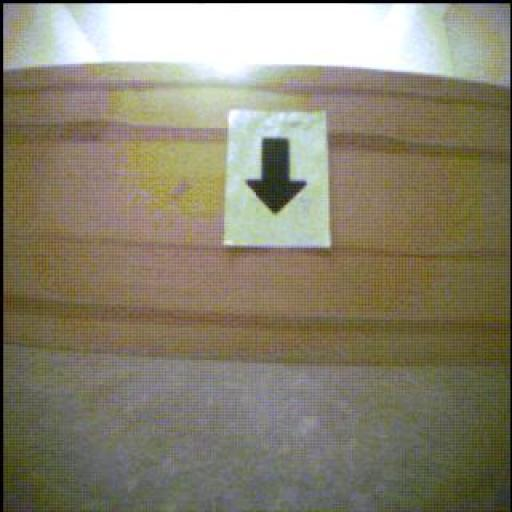arrow: (248, 139, 309, 216)
